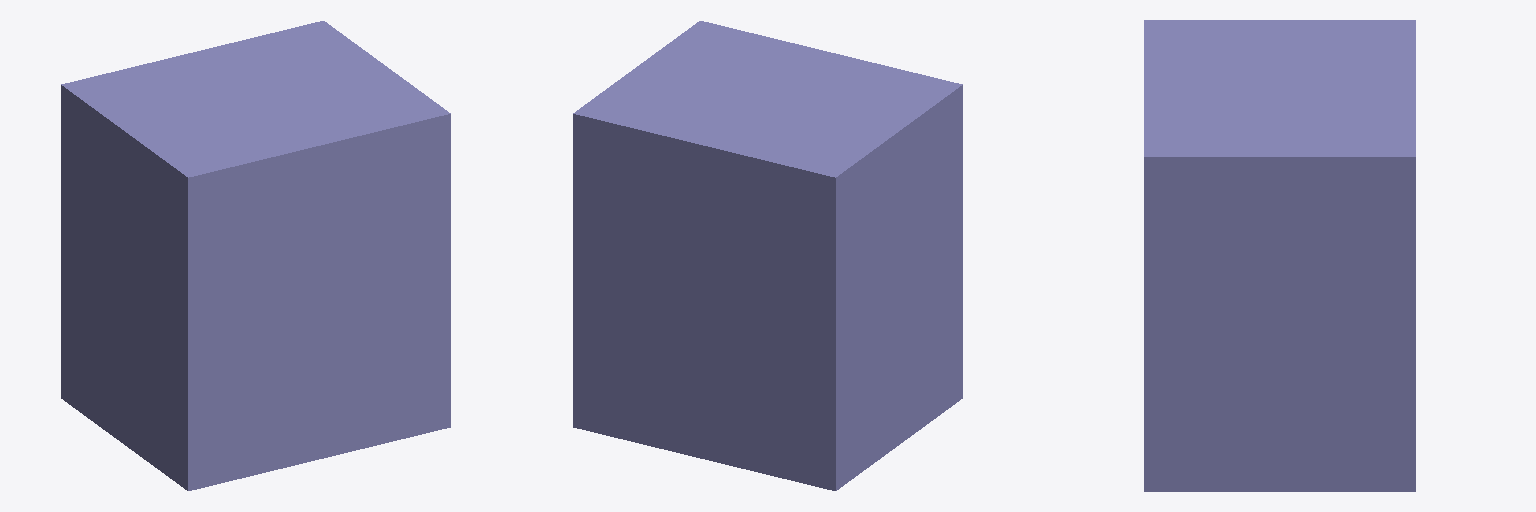
URDF robot description (box.urdf):
<?xml version="1.0" ?>
<robot name="box.urdf">
  <link name="baseLink">
    <contact>
      <lateral_friction value="1.0"/>
      <rolling_friction value="0.0001"/>
      <inertia_scaling value="3.0"/>
    </contact>
    <inertial>
      <origin rpy="0 0 0" xyz="0 0 0"/>
       <mass value="0.1"/>
       <inertia ixx="1" ixy="0" ixz="0" iyy="1" iyz="0" izz="1"/>
    </inertial>
    <visual>
      <origin rpy="0 0 0" xyz="0 0 0"/>
      <geometry>
        <!-- <box size="0.242 0.203 0.276"/> -->
        <mesh filename="box/box.obj" scale="0.242 0.203 0.276"/>
      </geometry>
      <material name="white">
        <color rgba="0.6 0.6 0.8 1"/>
      </material>
    </visual>
    <collision>
      <origin rpy="0 0 0" xyz="0 0 0"/>
      <geometry>
        <mesh filename="box/box.obj" scale="0.242 0.203 0.276"/>
	 	    <!-- <box size="0.242 0.203 0.276"/> -->
      </geometry>
    </collision>
  </link>
</robot>

--- What the picture shows (computed from the rendered views, not written in the file) ---
Views: 3 orthographic renders of the robot side by side, from view 1: azimuth 30°, elevation 25°; view 2: azimuth 150°, elevation 25°; view 3: azimuth 270°, elevation 25°.
Model box.urdf with 1 links and 0 joints (none), rooted at baseLink, posed every joint at zero.
Visible links, largest first — view 1: baseLink; view 2: baseLink; view 3: baseLink.
Boxes of the visible links, box(x1,y1,x2,y2) form: baseLink: box(61, 21, 450, 490); baseLink: box(573, 21, 962, 490); baseLink: box(1144, 20, 1415, 491).
Size in the robot's own frame: 0.242 by 0.203 by 0.276 metres.
Meshes: 1 distinct files referenced, 1 mesh visuals loaded (1 OBJ).
